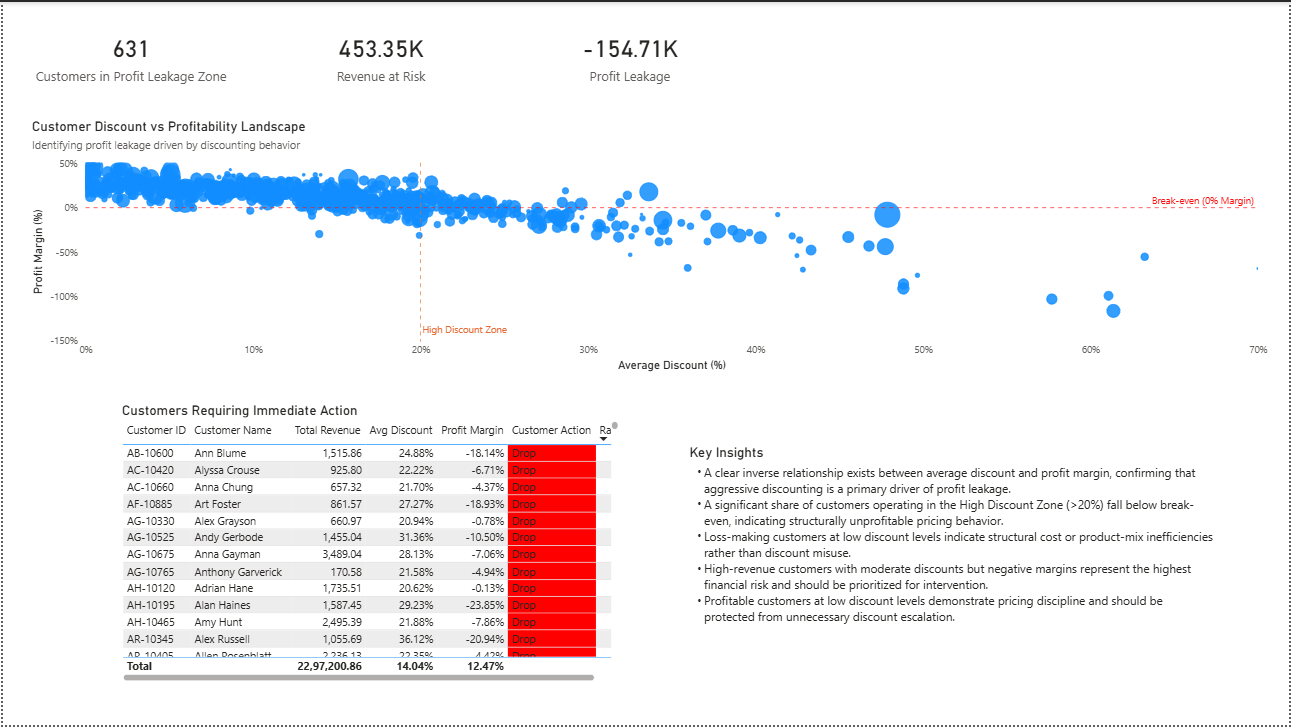

Layout of this report page (visuals, bound fields, positions):
{"tool":"powerbi","page":{"name":"Customer & Discount Profitability Analysis","canvas":[1600,900],"ordinal":2},"visuals":[{"type":"scatterChart","title":"Customer Discount vs Profitability Landscape","fields":{"Y":["Orders.Profit Margin"],"X":["Orders.Avg Discount"],"Size":["Orders.Total Revenue"],"Category":["Orders.Customer ID","Orders.Customer Name"]},"box":[30.4,144,1547.2,320],"z":0},{"type":"tableEx","title":"Customers Requiring Immediate Action","fields":{"Values":["Orders.Customer ID","Orders.Customer Name","Orders.Total Revenue","Orders.Avg Discount","Orders.Profit Margin","Orders.Customer Action","Orders.Customer Action Sort"]},"box":[142.4,497.6,627.2,352],"z":1000},{"type":"card","fields":{"Values":["Orders.Customers in Profit Leakage Zone"]},"box":[30,8,260,120],"z":2000},{"type":"card","fields":{"Values":["Orders.Revenue at Risk"]},"box":[340,8,260,120],"z":3000},{"type":"card","fields":{"Values":["Orders.Profit Leakage"]},"box":[650,8,260,120],"z":4000},{"type":"textbox","title":"Key Insights","box":[849.6,550.4,662.4,238.4],"z":5000}]}

Visuals, with their boxes in screenshot pixels (x1, y1, x2, y2), scaled from the page's 1600x900 canvas onto the 1291x728 screenshot:
"Customer Discount vs Profitability Landscape" scatterChart: {"left": 25, "top": 116, "right": 1273, "bottom": 375}
"Customers Requiring Immediate Action" tableEx: {"left": 115, "top": 403, "right": 621, "bottom": 687}
card - Orders.Customers in Profit Leakage Zone: {"left": 24, "top": 6, "right": 234, "bottom": 104}
card - Orders.Revenue at Risk: {"left": 274, "top": 6, "right": 484, "bottom": 104}
card - Orders.Profit Leakage: {"left": 524, "top": 6, "right": 734, "bottom": 104}
"Key Insights" textbox: {"left": 686, "top": 445, "right": 1220, "bottom": 638}
